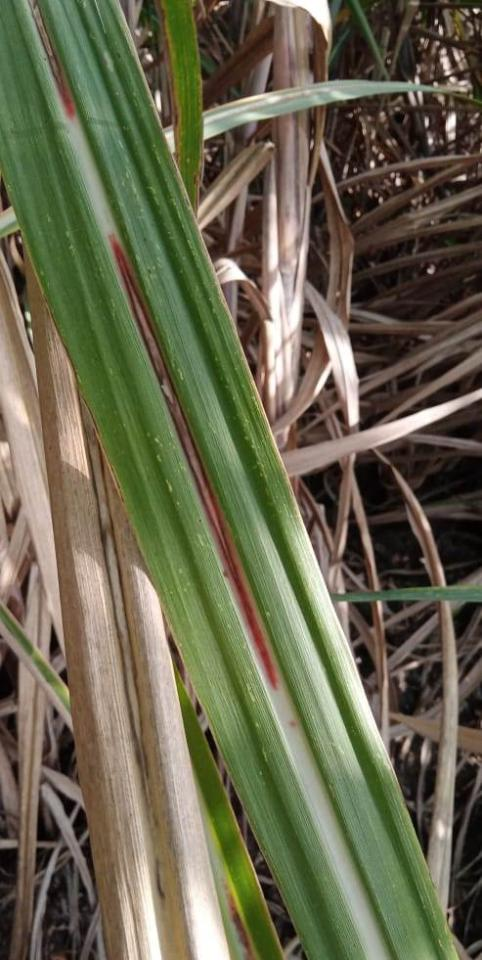RedRot: (110, 235, 274, 684), (31, 4, 75, 119)
